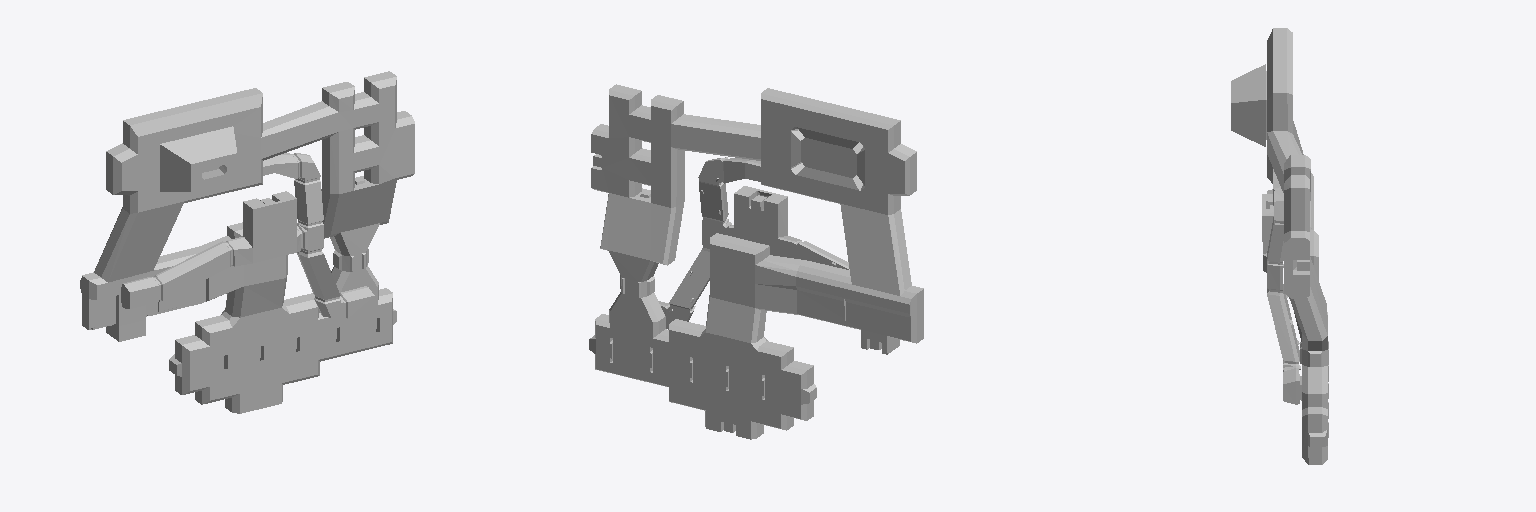
The model's file is ratrace.obj.
The picture shows the model from 3 angles: view 1: azimuth 30°, elevation 25°; view 2: azimuth 150°, elevation 25°; view 3: azimuth 270°, elevation 25°; orthographic projection.
Parts seen in each view (by area): view 1: "metal flat generic", "metal panels generic", "beavercreek cliffs", "metal strips narrow", "metal strips wide", "panel generic"; view 2: "metal plate floor", "metal flat generic", "rat cave floor", "metal strips narrow", "metal strips wide", "metal strips decorative wide", "beavercreek cliffs", "tech dense circuits"; view 3: "metal flat generic", "metal strips narrow", "beavercreek cliffs", "metal plate floor", "metal strips wide".
Part boxes in pixels (x1,y1,x2,y2): "metal flat generic": (80, 77, 414, 413); "metal panels generic": (89, 107, 391, 413); "beavercreek cliffs": (123, 153, 374, 319); "metal strips narrow": (82, 71, 411, 329); "metal strips wide": (175, 169, 392, 411); "panel generic": (153, 153, 347, 318); "metal plate floor": (591, 95, 909, 439); "metal flat generic": (589, 90, 916, 439); "rat cave floor": (661, 160, 848, 329); "metal strips narrow": (595, 84, 923, 342); "metal strips wide": (596, 129, 910, 437); "metal strips decorative wide": (613, 343, 761, 394); "beavercreek cliffs": (658, 157, 849, 321); "tech dense circuits": (801, 138, 856, 177); "metal flat generic": (1231, 28, 1328, 464); "metal strips narrow": (1273, 28, 1321, 350); "beavercreek cliffs": (1262, 169, 1299, 383); "metal plate floor": (1284, 121, 1327, 334); "metal strips wide": (1308, 367, 1321, 464).
Bounding box in the file's own units: 3235 × 3150 × 855.